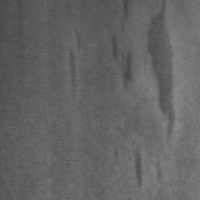inclusion: (144, 1, 179, 144), (108, 1, 138, 91), (113, 146, 166, 190), (66, 26, 84, 102)
